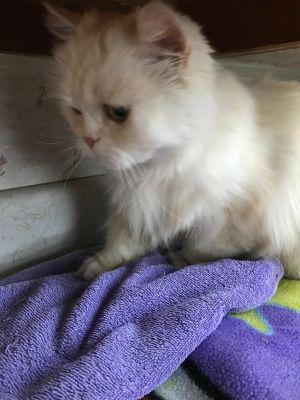persian: (37, 1, 213, 188)
